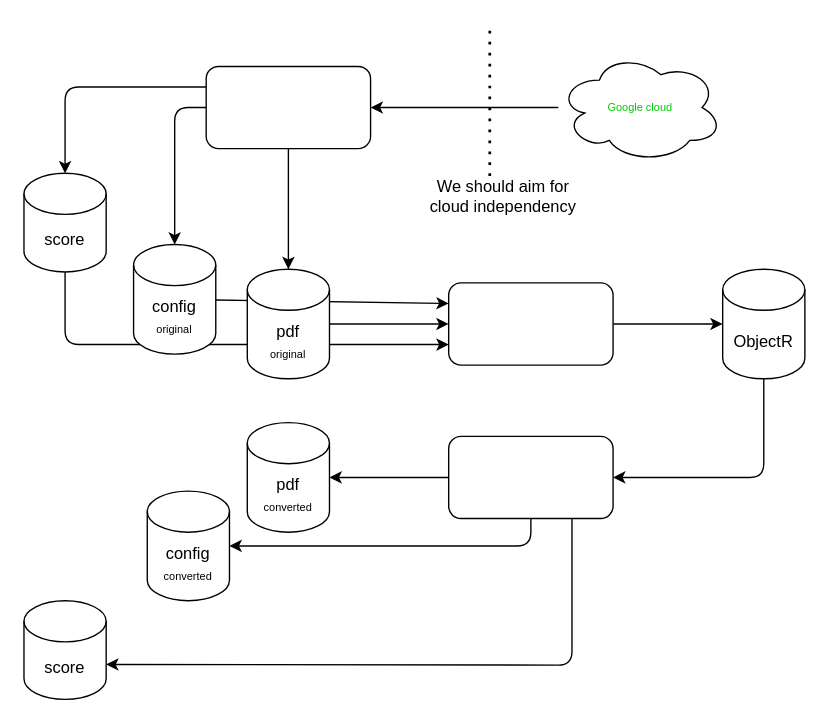
This 829x723 diagram has some shape labels left out. Here are the shapes that lost their labels. From the top down, the centre of each, then its label:
At (288,107): "Create CF report".
At (530,323): "pdf_object convert_pdf2objectr".
At (530,477): "pdf_object convert_objectr2pdf".
